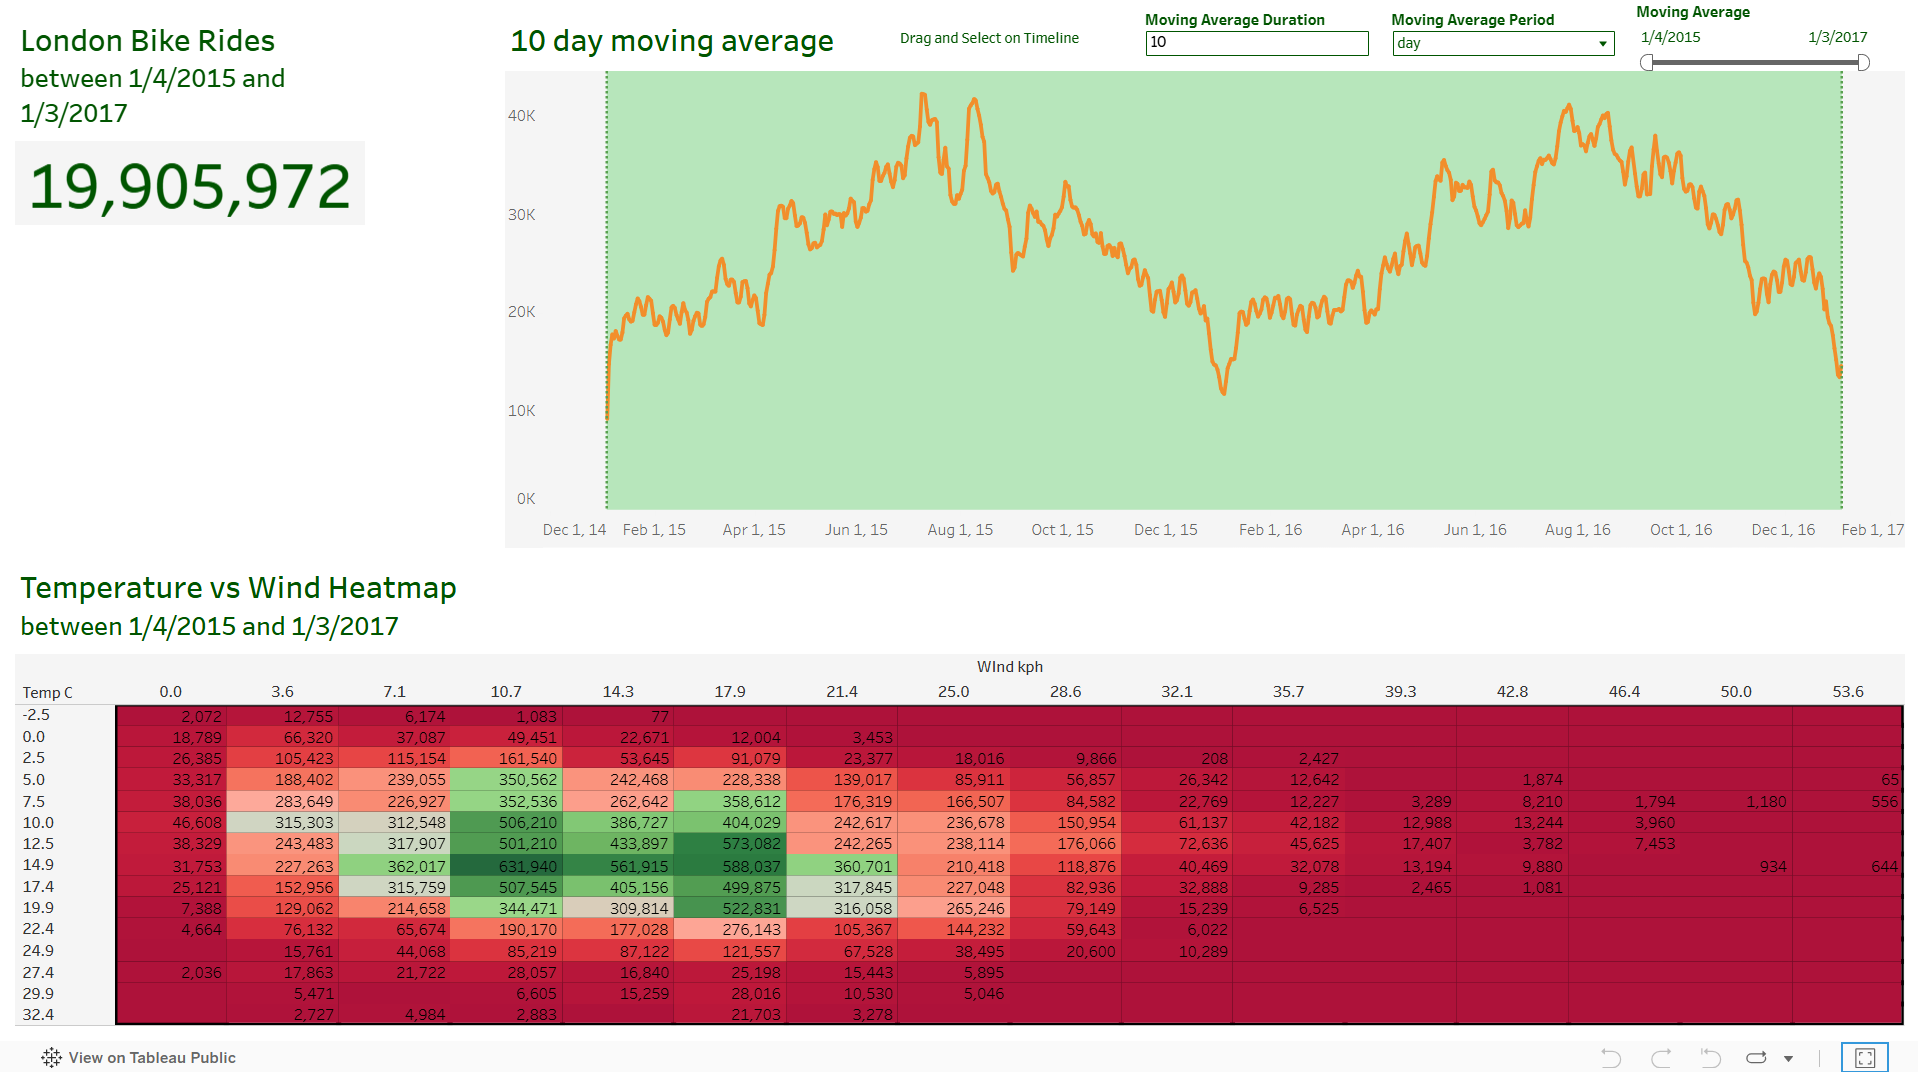

Layout of this report page (visuals, bound fields, positions):
{"tool":"tableau","page":{"name":"Dashboard 1","canvas":[1000,1000],"units":"permille","ordinal":0},"visuals":[{"type":"filter","title":"Moving Average","param":"[federated.1t4jux61vs9h4i18gnibm1pfd5ej].[none:Calculation_757449221871304704:qk","box":[852.1,4.7,123.1,81.1]},{"type":"worksheet","title":"Total Rides","mark":"Automatic","box":[4.8,9.4,255.2,523]},{"type":"worksheet","title":"Moving Average","mark":"Automatic","rows":["Calculation1"],"cols":["Calculation_757449221871304704"],"box":[260,9.4,735.2,523]},{"type":"parameter","param":"[Parameters].[Parameter 2]","box":[596.5,11.4,117.4,68.4]},{"type":"parameter","param":"[Parameters].[Parameter 1]","box":[724.7,11.7,117.1,62.5]},{"type":"text","box":[468.8,23.9,106.5,34.2]},{"type":"worksheet","title":"Heatmap","mark":"Square","rows":["temp real C (bin)"],"cols":["Wind Speed Kph (bin)"],"box":[4.8,532.4,990.3,458.2]}]}

Visuals, with their boxes on the dashboard's canvas, which has no fixed pixel size, in thousandths of its width and height (x1, y1, x2, y2). These are canvas units, not pixel positions in the 1918x1072 screenshot, which may show the page scaled, cropped or inside an application window:
"Moving Average" filter: rect(852, 5, 975, 86)
"Total Rides" worksheet: rect(5, 9, 260, 532)
"Moving Average" worksheet: rect(260, 9, 995, 532)
parameter: rect(596, 11, 714, 80)
parameter: rect(725, 12, 842, 74)
text: rect(469, 24, 575, 58)
"Heatmap" worksheet (Square marks): rect(5, 532, 995, 991)
